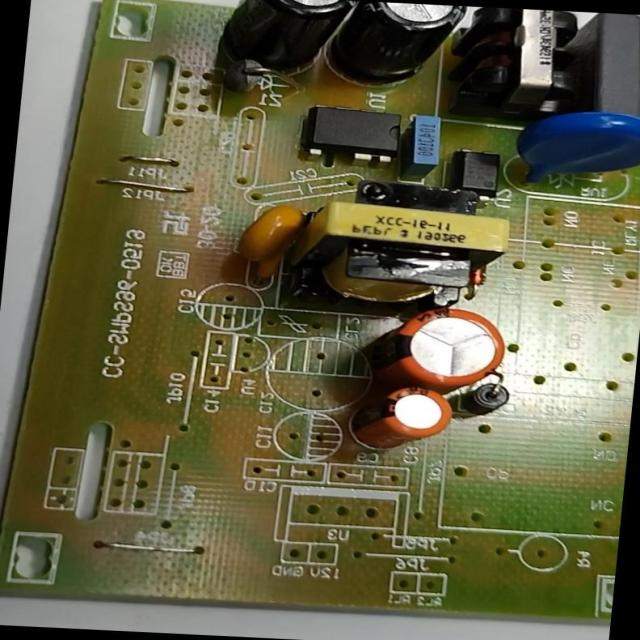Cap1: (364, 303, 511, 391)
Cap2: (349, 384, 455, 453)
Cap3: (338, 1, 471, 93)
Cap4: (216, 0, 360, 74)
MOSFET: (304, 102, 408, 163)
Mov: (512, 106, 640, 190)
Transformer: (284, 185, 516, 308), (456, 7, 583, 114)
